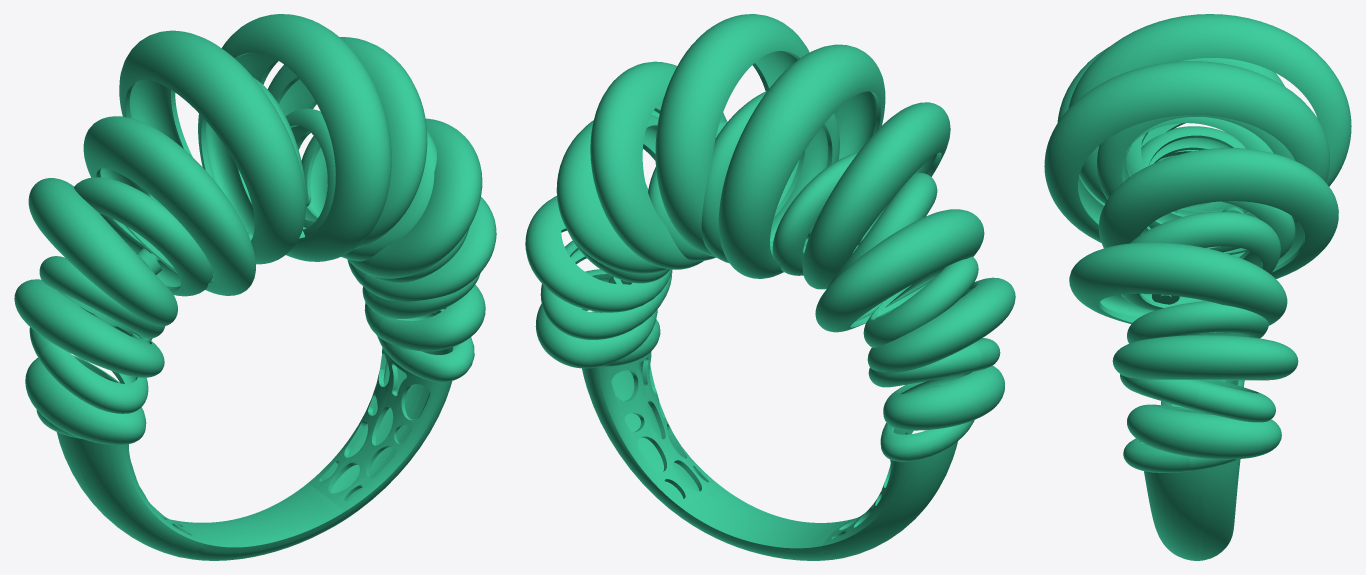
3 views of the same model, side by side, from view 1: azimuth 30°, elevation 25°; view 2: azimuth 150°, elevation 25°; view 3: azimuth 270°, elevation 25° (orthographic). The views are drawn at different scales.
Visible parts, largest first — view 1: Grisogono Frrik Matani.3dm; view 2: Grisogono Frrik Matani.3dm; view 3: Grisogono Frrik Matani.3dm.
Part boxes in pixels (x1,y1,x2,y2): Grisogono Frrik Matani.3dm: (14,14,496,560); Grisogono Frrik Matani.3dm: (525,14,1015,560); Grisogono Frrik Matani.3dm: (1044,14,1351,560).
Bounding box in the file's own units: 2.51 × 2.72 × 1.52.
